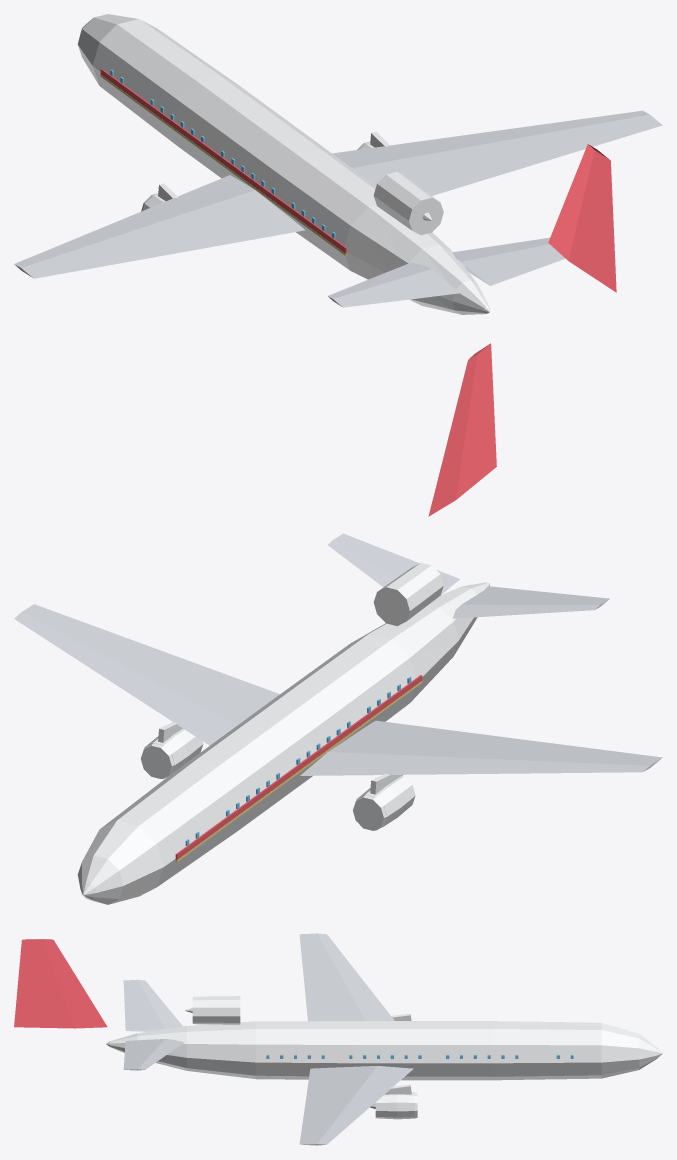
File: dc10_lowpoly.glb
3 renders of one model, top to bottom at view 1: azimuth 30°, elevation 25°; view 2: azimuth 150°, elevation 25°; view 3: azimuth 270°, elevation 25°, orthographic. The views are drawn at different scales.
Parts seen in each view (by area): view 1: DC10_Body, DC10_Wings, DC10_Engines; view 2: DC10_Body, DC10_Wings, DC10_Engines; view 3: DC10_Body, DC10_Wings, DC10_Engines.
Part boxes in pixels (x1,y1,x2,y2): DC10_Body: (77, 14, 616, 314); DC10_Wings: (14, 110, 662, 307); DC10_Engines: (141, 131, 443, 235); DC10_Body: (77, 343, 496, 904); DC10_Wings: (14, 533, 662, 775); DC10_Engines: (140, 563, 443, 830); DC10_Body: (14, 939, 662, 1080); DC10_Wings: (123, 933, 413, 1145); DC10_Engines: (185, 996, 417, 1119).
Bounding box in the file's own units: 50.4 × 18.15 × 65.7.
